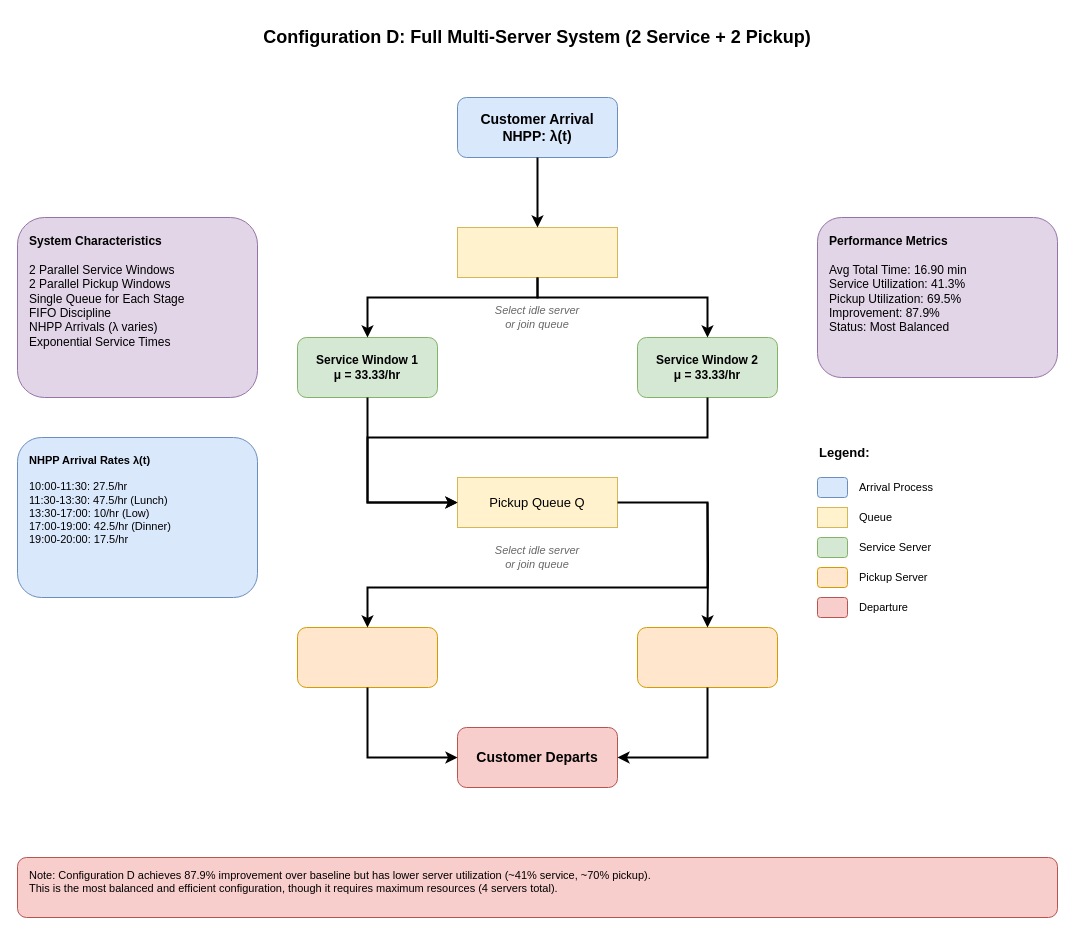
The diagram is 1075 pixels wide and 935 high, and some of its shapes have lost their labels. The shapes that lost their labels are listed below. From the top down, each one's centre as x and y in pixels, then its label:
At point (537, 252): "Service Queue Q".
At point (367, 657): "Pickup Window 1 μ = 20/hr".
At point (707, 657): "Pickup Window 2 μ = 20/hr".
